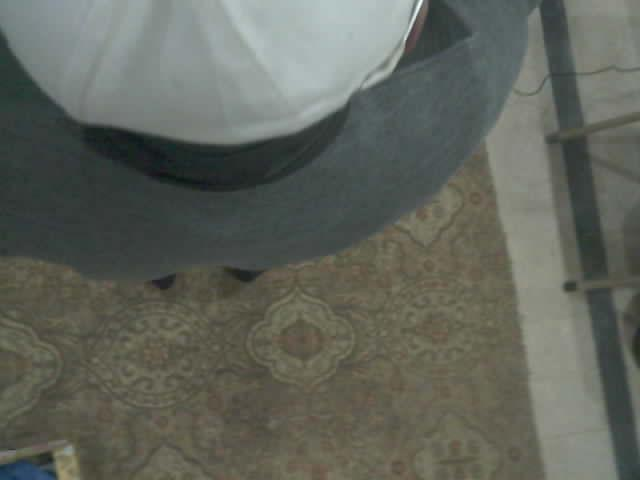cap: (0, 0, 423, 143)
